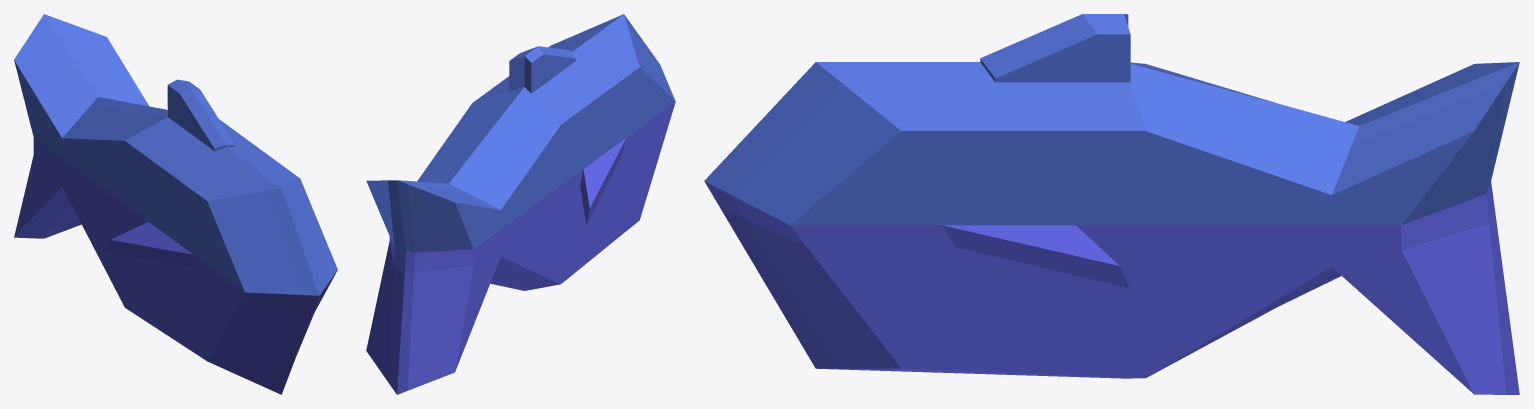
File: fish_1.fbx
The picture shows the model from 3 angles, left to right: view 1: azimuth 30°, elevation 25°; view 2: azimuth 150°, elevation 25°; view 3: azimuth 270°, elevation 25°; orthographic projection. The views are drawn at different scales.
Parts seen in each view (by area): view 1: Cube; view 2: Cube; view 3: Cube.
Boxes of the visible parts, x1,y1,x2,y2 form: Cube: (14, 14, 337, 394); Cube: (366, 14, 675, 394); Cube: (704, 14, 1519, 394).
Size of the model in its own units: 31.42 by 57.77 by 112.
